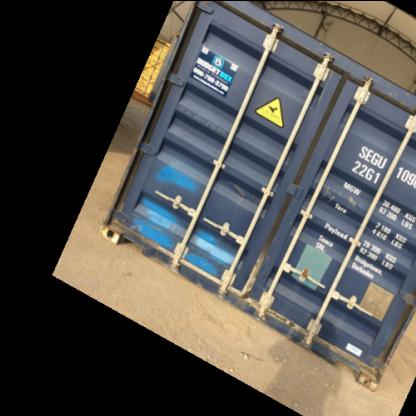Damage: (272, 309, 349, 355), (224, 251, 272, 303), (108, 221, 176, 252)
